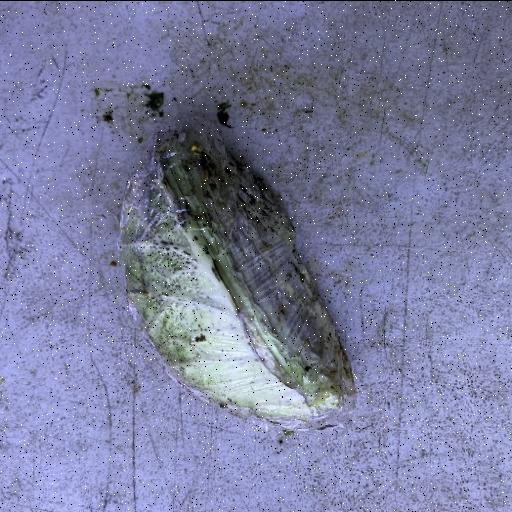Waste: (116, 115, 358, 435)
